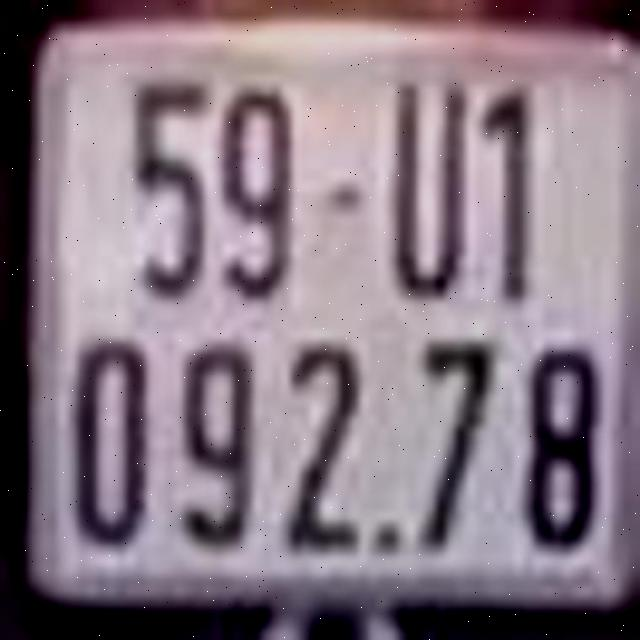0: (73, 333, 149, 546)
1: (479, 84, 536, 302)
2: (286, 338, 360, 552)
5: (130, 78, 210, 298)
7: (415, 334, 494, 554)
8: (528, 346, 596, 551)
9: (220, 82, 296, 301), (181, 339, 253, 548)
U: (390, 76, 469, 300)
